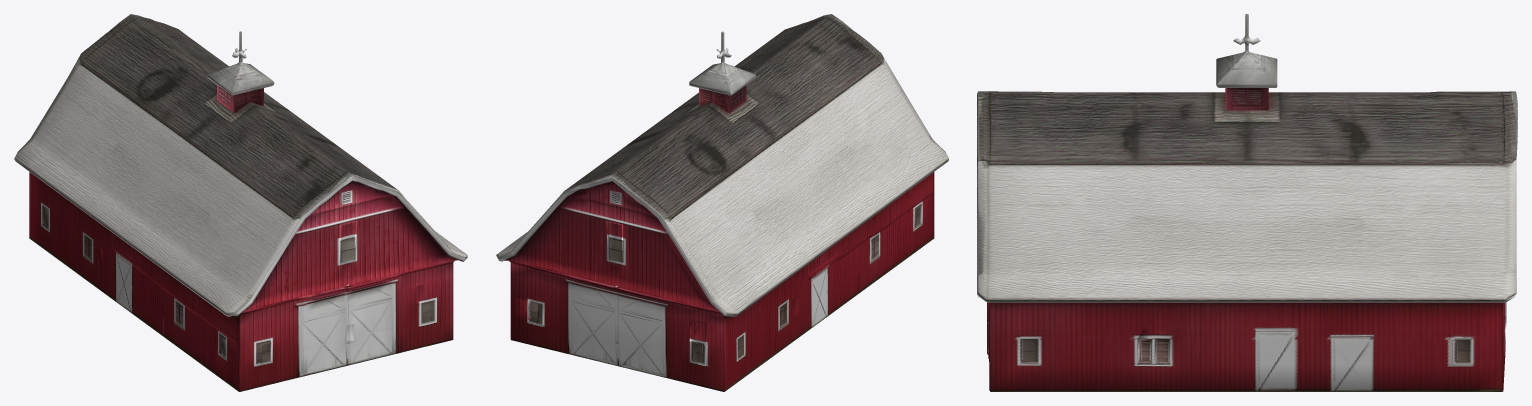
The model's file is Red_Barn_on_the_Farm_0621060347_texture.glb.
The picture shows the model from 3 angles, left to right: view 1: azimuth 30°, elevation 25°; view 2: azimuth 150°, elevation 25°; view 3: azimuth 270°, elevation 25°; orthographic projection. The views are drawn at different scales.
Visible parts, largest first — view 1: Mesh_0; view 2: Mesh_0; view 3: Mesh_0.
Boxes of the visible parts, x1,y1,x2,y2 form: Mesh_0: (14,14,467,391); Mesh_0: (496,14,948,391); Mesh_0: (977,14,1517,391).
Bounding box in the file's own units: 9.87 × 10.06 × 15.68.
Materials: 1 (1 with a texture image).
